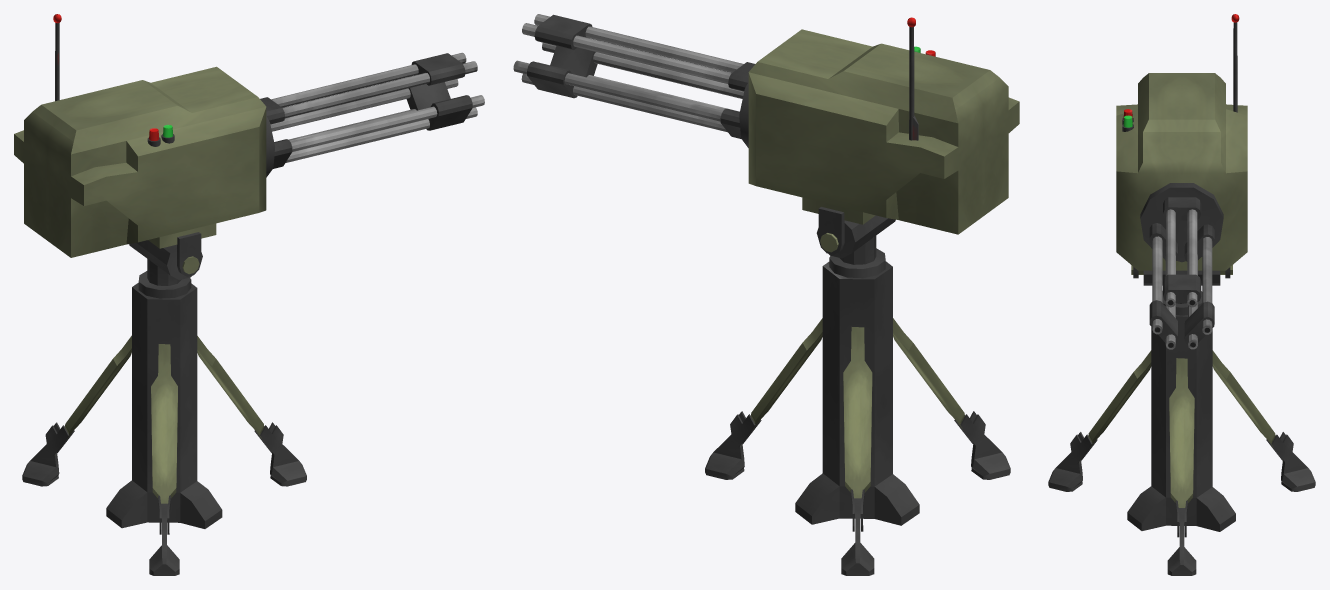
The model's file is turret2.fbx.fbx.
The picture shows the model from 3 angles, left to right: view 1: azimuth 30°, elevation 25°; view 2: azimuth 150°, elevation 25°; view 3: azimuth 270°, elevation 25°; orthographic projection. The views are drawn at different scales.
Visible parts, largest first — view 1: group13_pCube7, pCylinder1, pCube1 (×3), pCylinder14 (×3), pCylinder28 (×2), pCube4 (×3), pCylinder20 (×3), pCylinder4, pCylinder2, pCylinder21, pCube8; view 2: group13_pCube7, pCylinder1, pCube1 (×3), pCylinder28 (×3), pCylinder14 (×2), pCube4 (×3), pCylinder20 (×3), pCylinder4, pCylinder2, pCylinder21, pCube8; view 3: group13_pCube7, pCylinder1, pCube1 (×3), pCube4 (×3), pCylinder8, pCylinder20 (×3), pCylinder28 (×2), pCylinder14 (×2), pCylinder26 (×3), pCylinder4, pCylinder7, pCube6 (+1 smaller).
Boxes of the visible parts, bbox=[...] form: group13_pCube7: bbox=[14, 66, 266, 257]; pCylinder1: bbox=[106, 283, 222, 528]; pCube1 (×3): bbox=[65, 335, 264, 503]; pCylinder14 (×3): bbox=[270, 61, 477, 162]; pCylinder28 (×2): bbox=[271, 52, 484, 151]; pCube4 (×3): bbox=[22, 444, 306, 575]; pCylinder20 (×3): bbox=[406, 53, 472, 130]; pCylinder4: bbox=[129, 240, 202, 279]; pCylinder2: bbox=[138, 271, 191, 298]; pCylinder21: bbox=[177, 232, 201, 276]; pCube8: bbox=[148, 223, 216, 248]; group13_pCube7: bbox=[748, 29, 1019, 234]; pCylinder1: bbox=[795, 261, 919, 525]; pCube1 (×3): bbox=[751, 318, 964, 498]; pCylinder28 (×3): bbox=[521, 23, 743, 132]; pCylinder14 (×2): bbox=[513, 14, 743, 121]; pCube4 (×3): bbox=[705, 434, 1010, 575]; pCylinder20 (×3): bbox=[527, 14, 597, 98]; pCylinder4: bbox=[816, 215, 895, 258]; pCylinder2: bbox=[829, 248, 885, 278]; pCylinder21: bbox=[818, 207, 844, 254]; pCube8: bbox=[802, 197, 875, 224]; group13_pCube7: bbox=[1116, 73, 1247, 270]; pCylinder1: bbox=[1127, 315, 1235, 531]; pCube1 (×3): bbox=[1088, 350, 1275, 507]; pCube4 (×3): bbox=[1048, 452, 1315, 575]; pCylinder8: bbox=[1140, 183, 1223, 262]; pCylinder20 (×3): bbox=[1149, 274, 1214, 344]; pCylinder28 (×2): bbox=[1152, 209, 1197, 334]; pCylinder14 (×2): bbox=[1166, 209, 1212, 334]; pCylinder26 (×3): bbox=[1149, 197, 1214, 261]; pCylinder4: bbox=[1143, 270, 1220, 285]; pCylinder7: bbox=[1233, 22, 1237, 112]; pCube6: bbox=[1271, 434, 1293, 463].
Bounding box in the file's own units: 2.75 × 3.08 × 1.61.
1 material, 1 textured.
